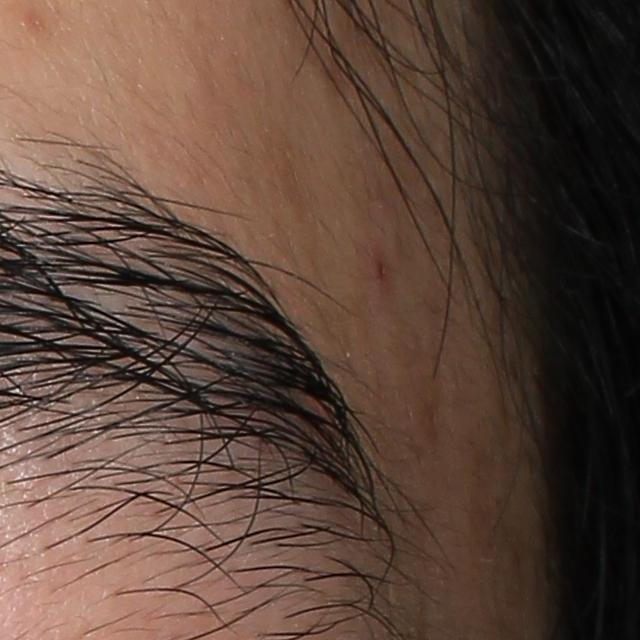papule: (369, 255, 391, 281)
